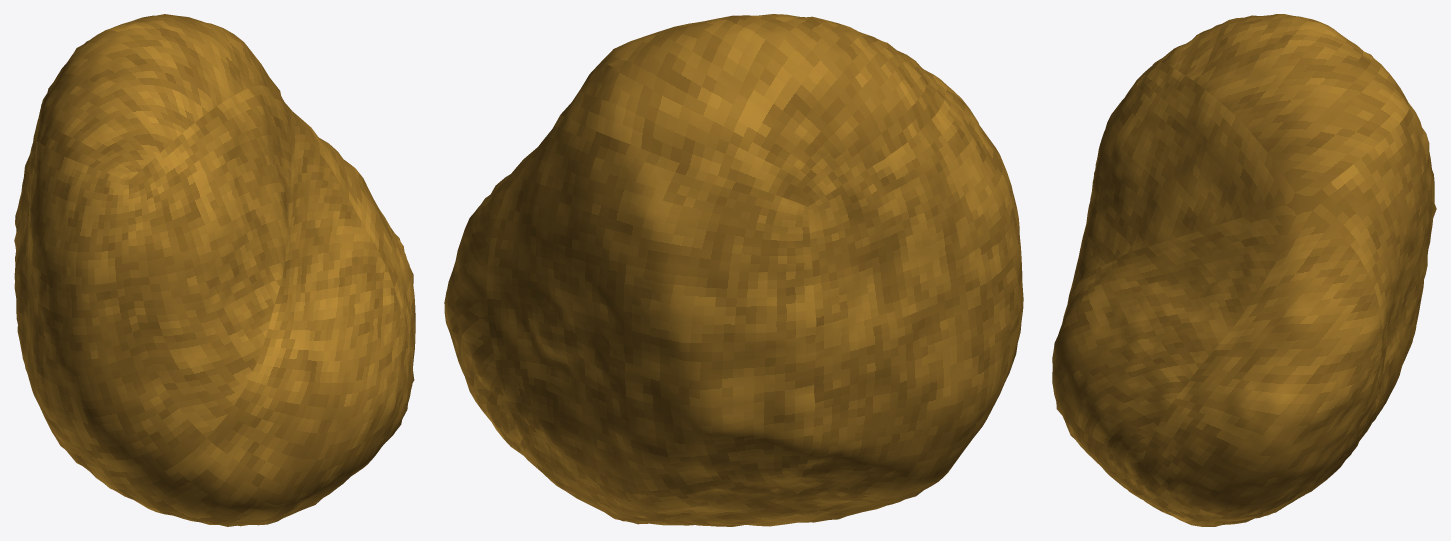
Rendered from rock2.glb.
3 views of the same model, side by side, from view 1: azimuth 30°, elevation 25°; view 2: azimuth 150°, elevation 25°; view 3: azimuth 270°, elevation 25° (orthographic). The views are drawn at different scales.
Parts seen in each view (by area): view 1: rock; view 2: rock; view 3: rock.
Part boxes in pixels (x1,y1,x2,y2): rock: (14,14,415,526); rock: (444,14,1023,526); rock: (1052,14,1436,526).
Bounding box in the file's own units: 1.04 × 1.12 × 0.887.
1 material, 1 textured.
